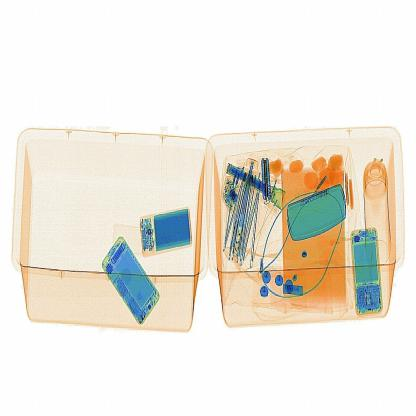scissors: (259, 148, 282, 211)
